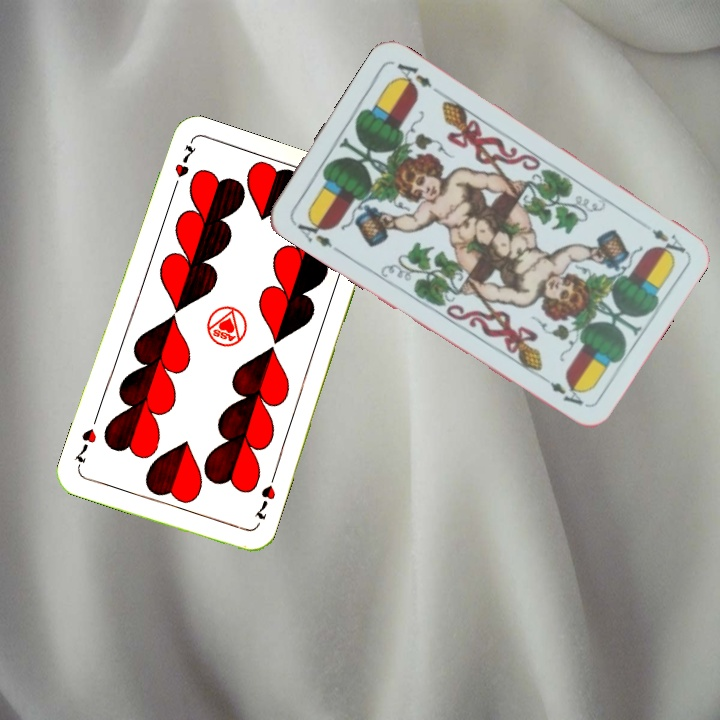EA: (289, 212, 342, 255), (647, 224, 688, 260)
H7: (168, 141, 199, 196), (251, 481, 278, 522)
